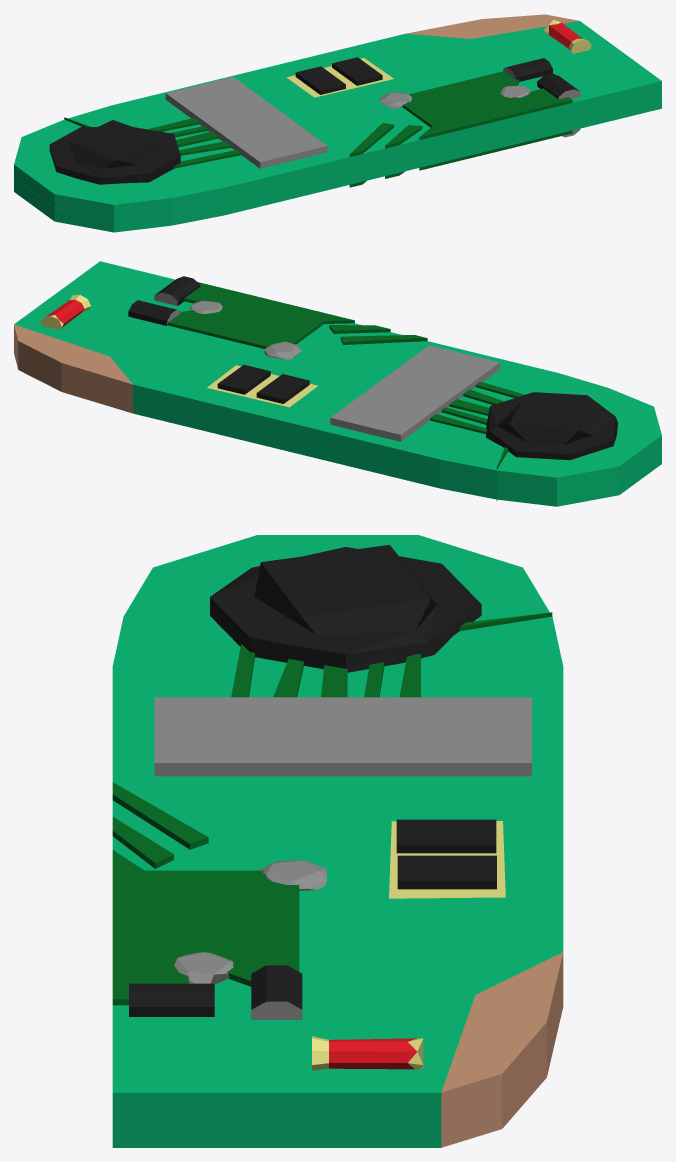
Rendered from carte_elec3.fbx.
3 renders of one model, top to bottom at view 1: azimuth 30°, elevation 25°; view 2: azimuth 150°, elevation 25°; view 3: azimuth 270°, elevation 25°, orthographic. The views are drawn at different scales.
Parts seen in each view (by area): view 1: Cube.006; view 2: Cube.006; view 3: Cube.006.
Part boxes in pixels (box(x1,y1,x2,y2)): Cube.006: box(14, 14, 661, 232); Cube.006: box(14, 261, 661, 506); Cube.006: box(112, 535, 563, 1147).
Size of the model in its own units: 1121 by 117 by 383.
